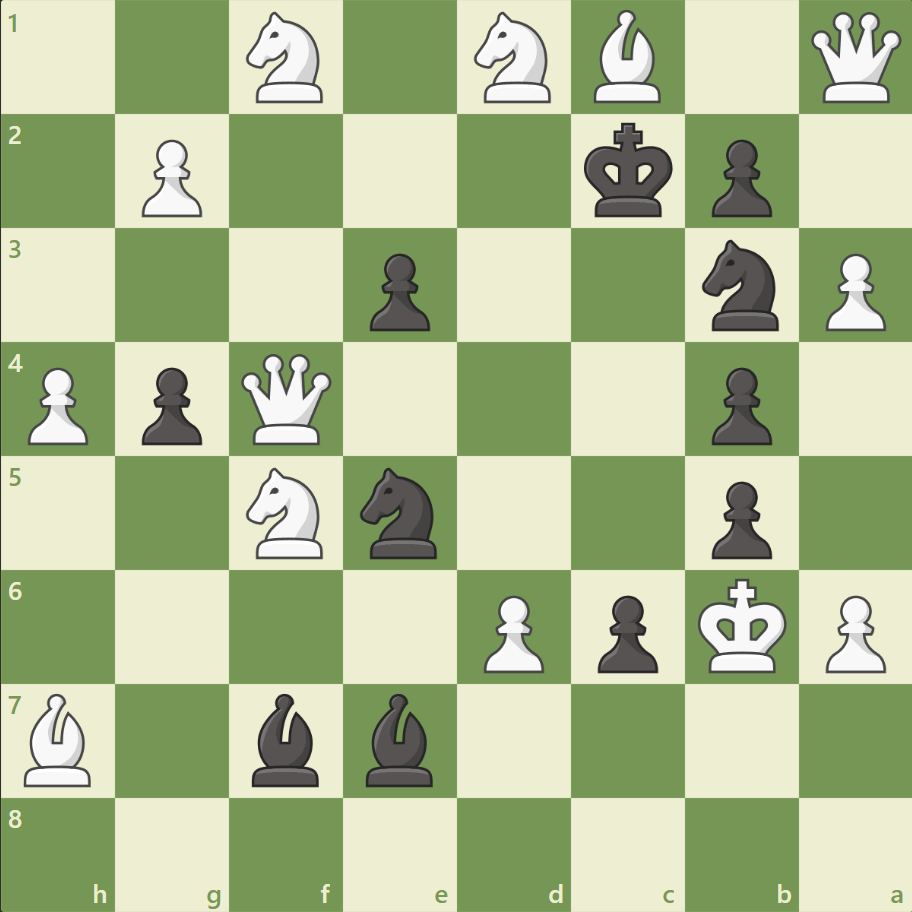B: (17, 687, 101, 790), (585, 6, 669, 109)
K: (692, 571, 792, 679)
N: (238, 461, 335, 564), (465, 7, 562, 110), (238, 7, 335, 110)
P: (474, 586, 549, 677), (20, 359, 95, 450), (133, 132, 208, 223), (815, 586, 889, 677), (815, 246, 889, 337)
Q: (237, 349, 336, 449), (805, 9, 904, 108)
b: (358, 687, 442, 790), (244, 687, 328, 790)
k: (579, 117, 679, 225)
n: (351, 461, 449, 564), (692, 234, 789, 337)
p: (701, 473, 776, 564), (701, 359, 776, 450), (133, 359, 208, 450), (701, 132, 776, 223), (588, 586, 662, 677), (361, 246, 435, 337)
